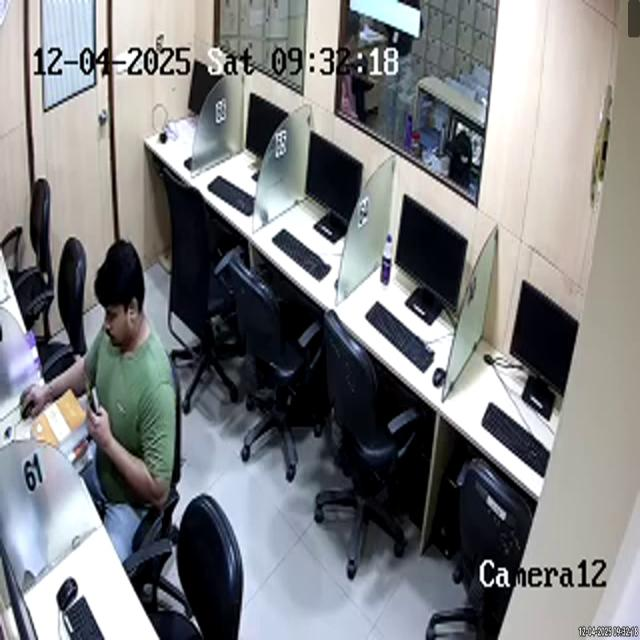phone: (80, 353, 102, 415)
